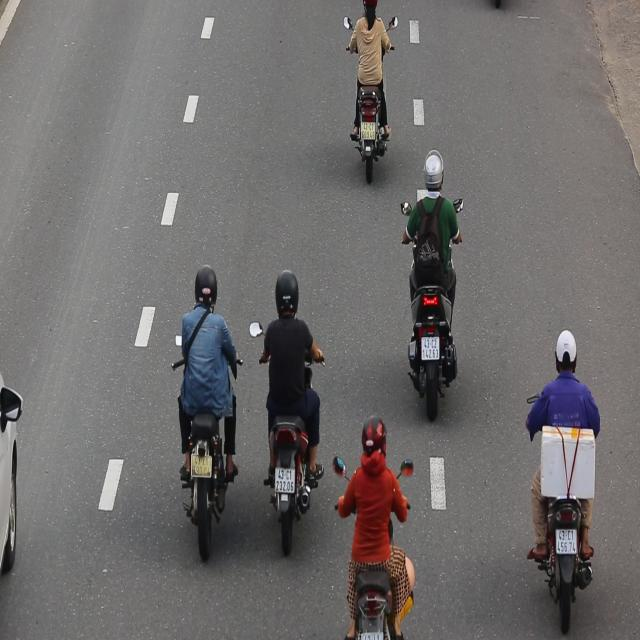motorbike: (524, 325, 604, 638), (252, 265, 328, 557), (172, 258, 244, 564), (399, 147, 466, 426)
